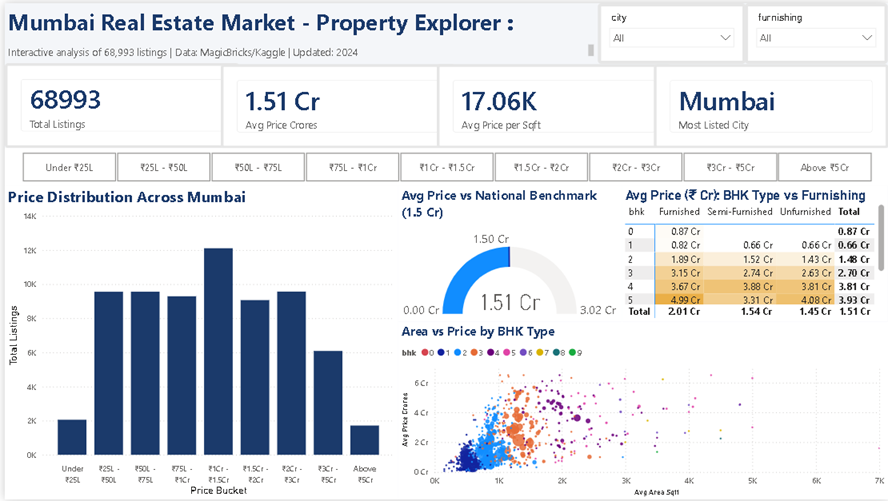

The page's visual inventory and layout, read from the dashboard file:
{"tool":"powerbi","page":{"name":"Property Explorer","canvas":[1280,720],"ordinal":2},"visuals":[{"type":"textbox","box":[0,0,1280.3,54.9],"z":0},{"type":"textbox","box":[0,55,858.8,32.5],"z":1000},{"type":"cardVisual","fields":{"Data":["Properties.Total Listings"]},"box":[0,87.1,340,122.9],"z":2000},{"type":"cardVisual","fields":{"Data":["Properties.Avg Price Crores"]},"box":[313.3,87.8,340,122.1],"z":3000},{"type":"cardVisual","fields":{"Data":["Properties.Avg Price per Sqft"]},"box":[626.6,87.8,340,122.1],"z":4000},{"type":"cardVisual","fields":{"Data":["Properties.Most Listed City"]},"box":[940,87.8,340,122.1],"z":5000},{"type":"slicer","fields":{"Values":["Properties.city"]},"box":[859,0,214.1,87.8],"z":6000},{"type":"slicer","fields":{"Values":["Properties.furnishing"]},"box":[1072.8,0,207.2,87.8],"z":7000},{"type":"clusteredColumnChart","title":"Price Distribution Across Mumbai","fields":{"Category":["Properties.Price Bucket"],"Y":["Properties.Total Listings"]},"box":[0,265.2,569.6,455.1],"z":7001},{"type":"pivotTable","title":"Avg Price (₹ Cr): BHK Type vs Furnishing","fields":{"Rows":["Properties.bhk"],"Columns":["Properties.furnishing"],"Values":["Properties.Avg Price Crores"]},"box":[894.2,265.2,385.5,197.1],"z":7002},{"type":"scatterChart","title":"Area vs Price by BHK Type","fields":{"X":["Properties.Avg Area Sqft"],"Y":["Properties.Avg Price Crores"],"Series":["Properties.bhk"],"Category":["Properties.locality"],"Size":["Properties.Total Listings"]},"box":[569.6,462.3,710.1,258],"z":7003},{"type":"gauge","title":"Avg Price vs National Benchmark (1.5 Cr)","fields":{"Y":["Properties.Avg Price Crores"],"TargetValue":["Properties.National Benchmark"]},"box":[569.6,265.2,324.6,197.1],"z":7004},{"type":"slicer","fields":{"Values":["Properties.Price Bucket"]},"box":[0,210.1,1279.7,55.1],"z":7005}]}

Visuals, with their boxes in screenshot pixels (x1, y1, x2, y2), scaled from the page's 1280x720 canvas onto the 888x501 screenshot:
textbox: rect(0, 0, 887, 38)
textbox: rect(0, 38, 596, 61)
cardVisual - Properties.Total Listings: rect(0, 61, 236, 146)
cardVisual - Properties.Avg Price Crores: rect(217, 61, 453, 146)
cardVisual - Properties.Avg Price per Sqft: rect(435, 61, 671, 146)
cardVisual - Properties.Most Listed City: rect(652, 61, 887, 146)
slicer - Properties.city: rect(596, 0, 744, 61)
slicer - Properties.furnishing: rect(744, 0, 887, 61)
"Price Distribution Across Mumbai" clusteredColumnChart: rect(0, 185, 395, 500)
"Avg Price (₹ Cr): BHK Type vs Furnishing" pivotTable: rect(620, 185, 887, 322)
"Area vs Price by BHK Type" scatterChart: rect(395, 322, 887, 500)
"Avg Price vs National Benchmark (1.5 Cr)" gauge: rect(395, 185, 620, 322)
slicer - Properties.Price Bucket: rect(0, 146, 887, 185)
